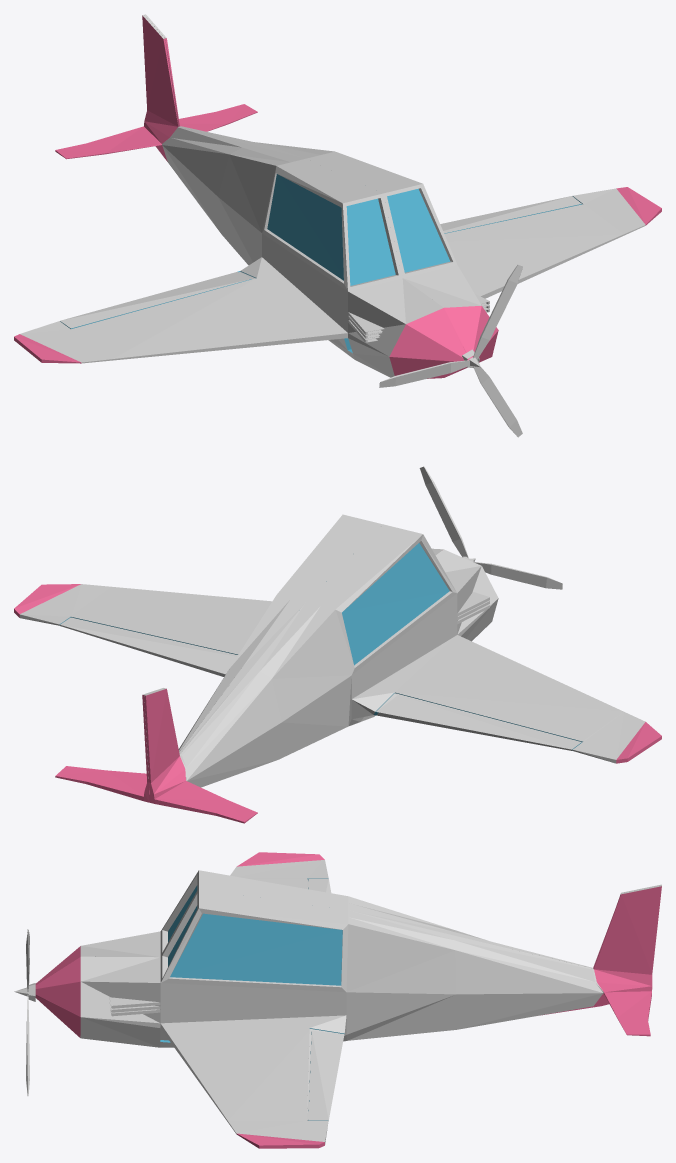
3 views of the same model, one above another, from view 1: azimuth 30°, elevation 25°; view 2: azimuth 150°, elevation 25°; view 3: azimuth 270°, elevation 25° (orthographic). The views are drawn at different scales.
Visible parts, largest first — view 1: plane, plane-propeller; view 2: plane, plane-propeller; view 3: plane, plane-propeller.
Part boxes in pixels (x1,y1,x2,y2): plane: (14, 14, 661, 378); plane-propeller: (379, 264, 522, 437); plane: (14, 514, 661, 823); plane-propeller: (419, 466, 562, 589); plane: (35, 852, 661, 1148); plane-propeller: (14, 929, 35, 1095).
Bounding box in the file's own units: 478 × 144 × 447.
